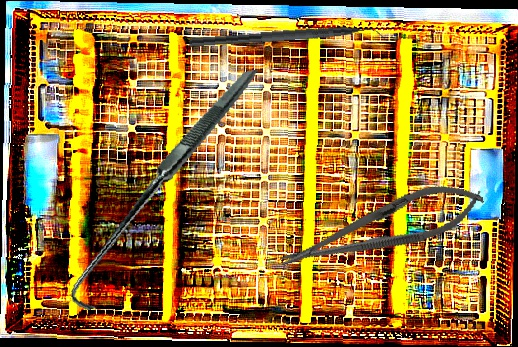Chopper: (188, 20, 391, 61)
Hook Surgical: (35, 69, 298, 313)
Needle Holder: (273, 170, 490, 286)
